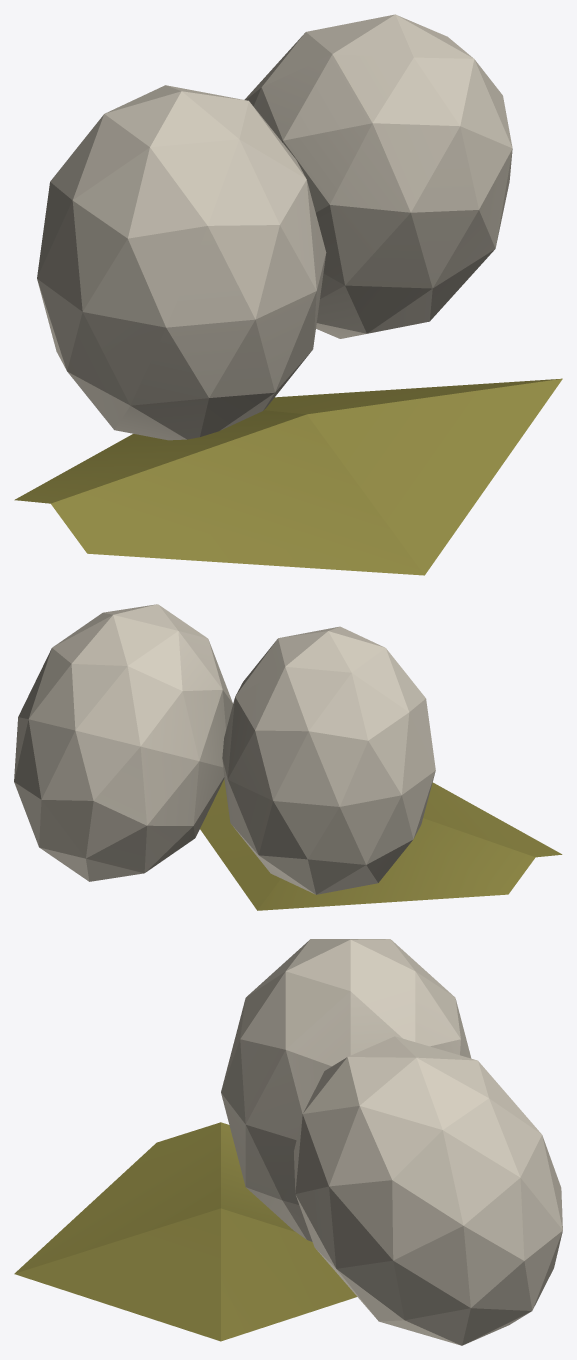
File: EggItem.fbx
3 renders of one model, top to bottom at view 1: azimuth 30°, elevation 25°; view 2: azimuth 150°, elevation 25°; view 3: azimuth 270°, elevation 25°, orthographic. The views are drawn at different scales.
Visible parts, largest first — view 1: EggItem; view 2: EggItem; view 3: EggItem.
Part boxes in pixels (<box>): EggItem: <box>14,14,562,575</box>; EggItem: <box>14,604,562,910</box>; EggItem: <box>14,939,562,1345</box>.
Size of the model in its own units: 0.2176 by 0.1329 by 0.2116.
